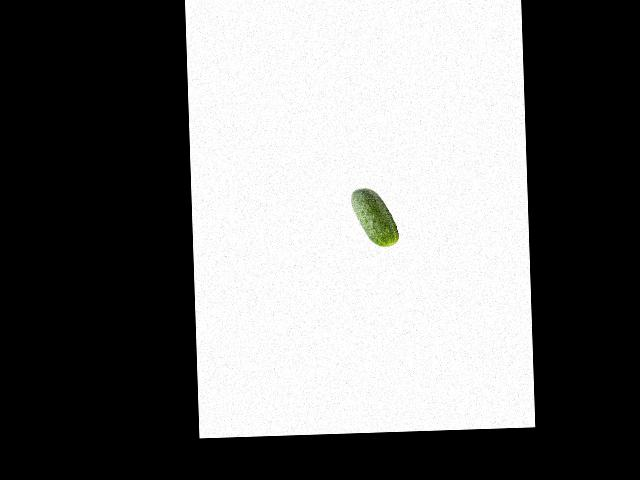cucumber: (350, 186, 398, 247)
